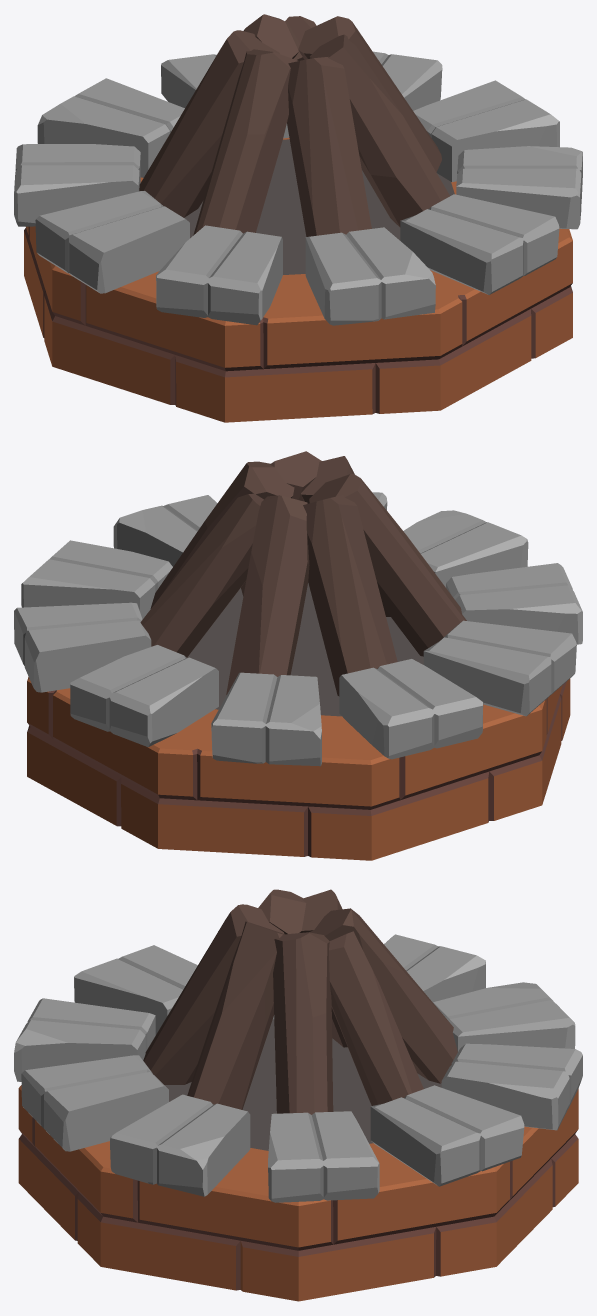
The model's file is CampFire.fbx.
3 renders of one model, top to bottom at view 1: azimuth 30°, elevation 25°; view 2: azimuth 150°, elevation 25°; view 3: azimuth 270°, elevation 25°, orthographic.
Visible parts, largest first — view 1: CampFire; view 2: CampFire; view 3: CampFire.
Part boxes in pixels (left/top/right/bottom): CampFire: left=14, top=14, right=582, bottom=422; CampFire: left=14, top=451, right=582, bottom=860; CampFire: left=14, top=889, right=582, bottom=1301.
Size of the model in its own units: 52 by 27.64 by 52.5.
